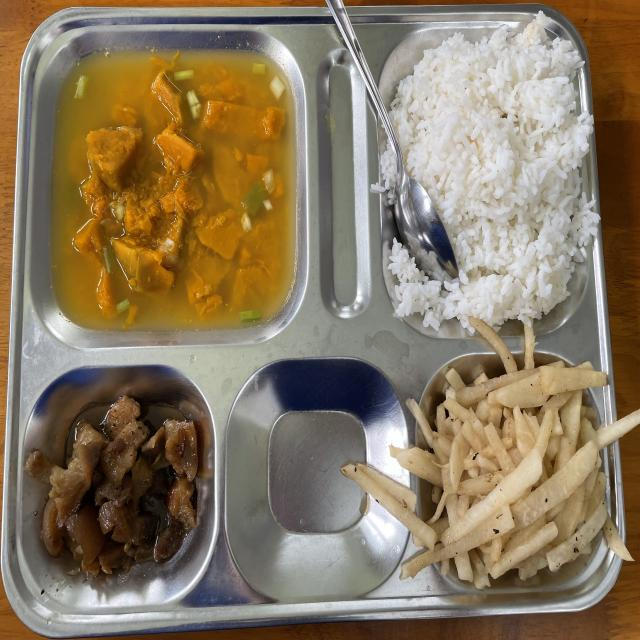thit_kho: (51, 391, 190, 578)
